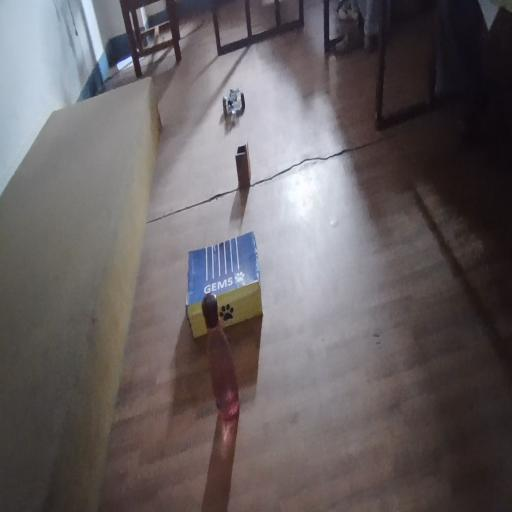Bottle: (196, 304, 243, 415)
car: (223, 84, 249, 126)
